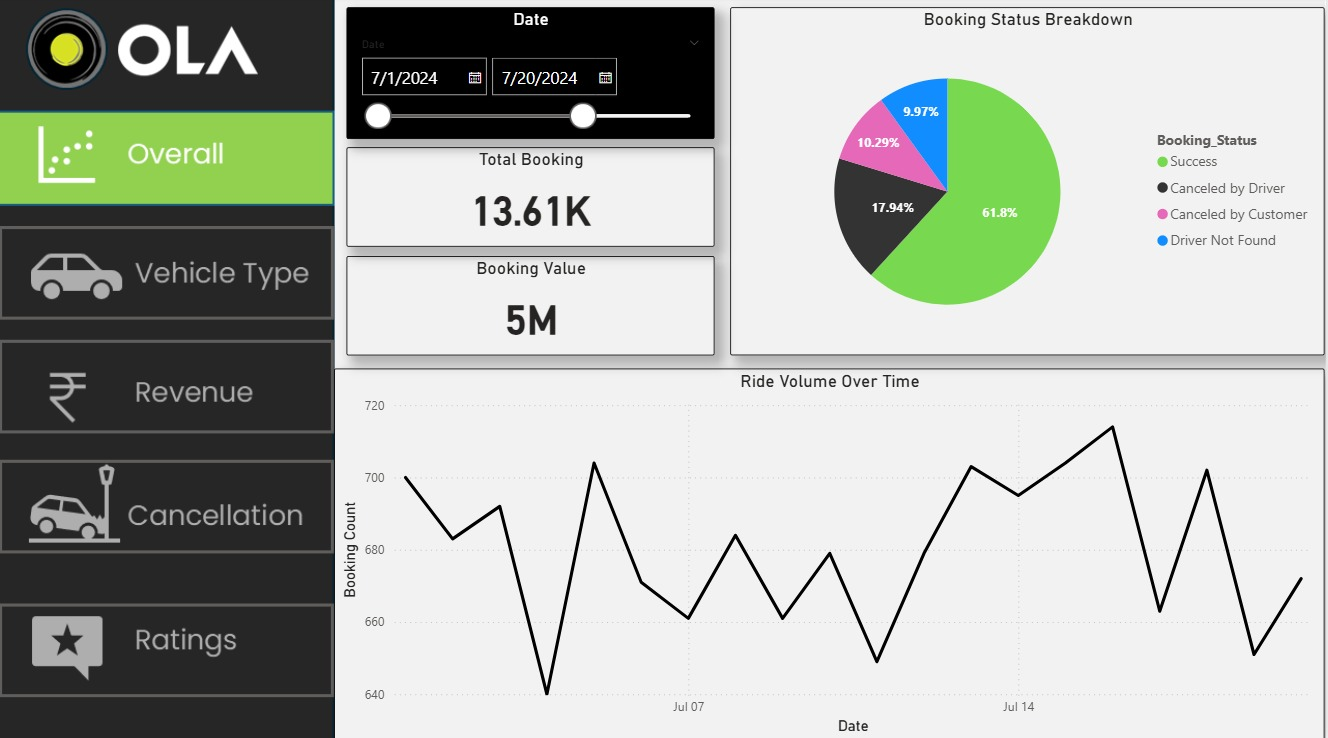

Layout of this report page (visuals, bound fields, positions):
{"tool":"powerbi","page":{"name":"Overall","canvas":[1280,720],"ordinal":0},"visuals":[{"type":"actionButton","box":[0,331.8,323.3,90.5],"z":0},{"type":"actionButton","box":[0,222,323.3,90.5],"z":1000},{"type":"actionButton","box":[0,447.6,323.3,90.5],"z":2000},{"type":"actionButton","box":[0,586.3,323.3,90.5],"z":3000},{"type":"lineChart","title":"Ride Volume Over Time","fields":{"Category":["July.Date"],"Y":["CountNonNull(July.Booking_ID)"]},"box":[323.8,360,956.2,360],"z":4000},{"type":"pieChart","title":"Booking Status Breakdown","fields":{"Category":["July.Booking_Status"],"Y":["CountNonNull(July.Booking_Status)"]},"box":[706.2,11.2,573.8,336.2],"z":5000},{"type":"slicer","title":"Date","fields":{"Values":["July.Date"]},"box":[335,11.2,355,127.5],"z":6000},{"type":"card","title":"Total Booking","fields":{"Values":["Count(July.Booking_ID)"]},"box":[335,146.2,355,96.2],"z":7000},{"type":"card","title":"Booking Value","fields":{"Values":["Sum(July.Booking_Value)"]},"box":[335,251.2,355,96.2],"z":8000}]}

Visuals, with their boxes in screenshot pixels (x1, y1, x2, y2), scaled from the page's 1280x720 canvas onto the 1328x738 screenshot:
actionButton: 0 340 335 433
actionButton: 0 228 335 320
actionButton: 0 459 335 552
actionButton: 0 601 335 694
"Ride Volume Over Time" lineChart: 336 369 1327 737
"Booking Status Breakdown" pieChart: 733 11 1327 356
"Date" slicer: 348 11 716 142
"Total Booking" card: 348 150 716 248
"Booking Value" card: 348 257 716 356
